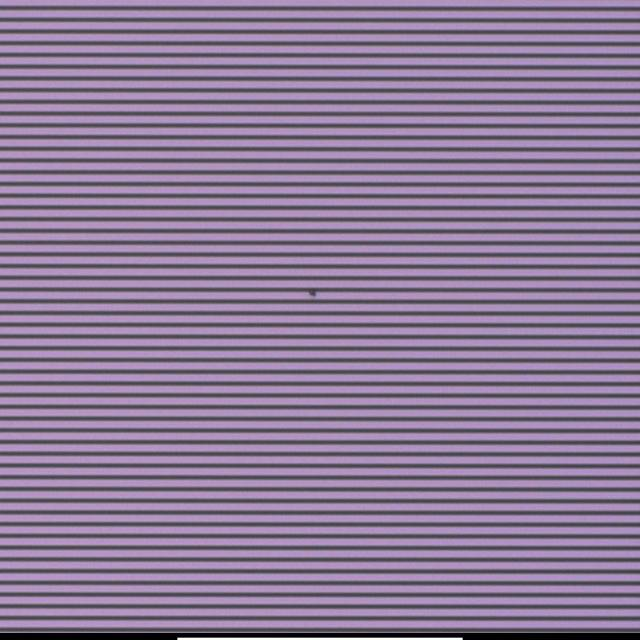03_intrusion: (306, 286, 322, 302)
